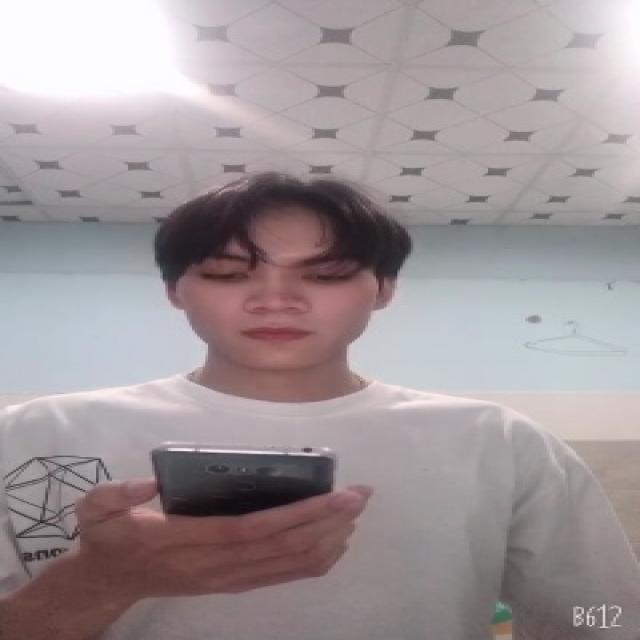Phone: (147, 442, 337, 520)
